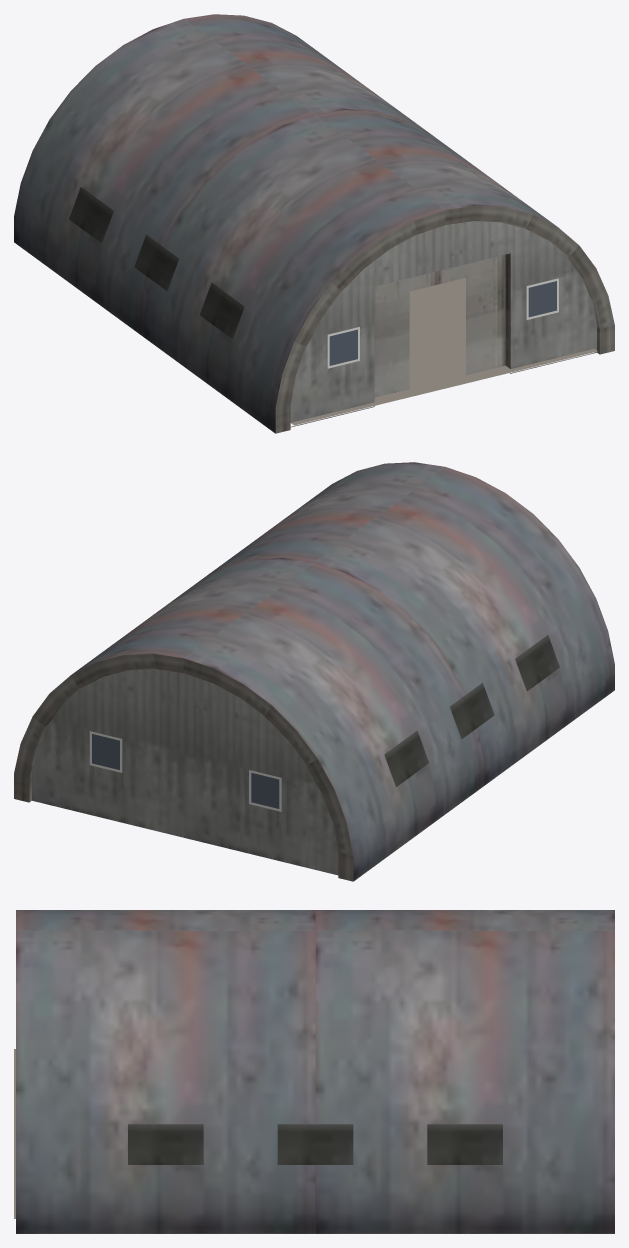
File: rural-quonset.windows-v1.lod1.glb
3 views of the same model, one above another, from view 1: azimuth 30°, elevation 25°; view 2: azimuth 150°, elevation 25°; view 3: azimuth 270°, elevation 25° (orthographic). The views are drawn at different scales.
Visible parts, largest first — view 1: Rural_QuonsetHut_1_Rural_Industrial_Walls_FLR_1_0, Walkable floors and stairs, Window glass and frames; view 2: Rural_QuonsetHut_1_Rural_Industrial_Walls_FLR_1_0, Window glass and frames; view 3: Rural_QuonsetHut_1_Rural_Industrial_Walls_FLR_1_0.
Boxes of the visible parts, x1=… form: Rural_QuonsetHut_1_Rural_Industrial_Walls_FLR_1_0: x1=14, y1=14, x2=614, y2=433; Walkable floors and stairs: x1=291, y1=278, x2=597, y2=425; Window glass and frames: x1=327, y1=278, x2=558, y2=368; Rural_QuonsetHut_1_Rural_Industrial_Walls_FLR_1_0: x1=14, y1=462, x2=614, y2=881; Window glass and frames: x1=89, y1=731, x2=281, y2=811; Rural_QuonsetHut_1_Rural_Industrial_Walls_FLR_1_0: x1=16, y1=910, x2=614, y2=1233.
Size of the model in its own units: 9.38 by 4.81 by 12.56.
Materials: 3 (1 with a texture image).
